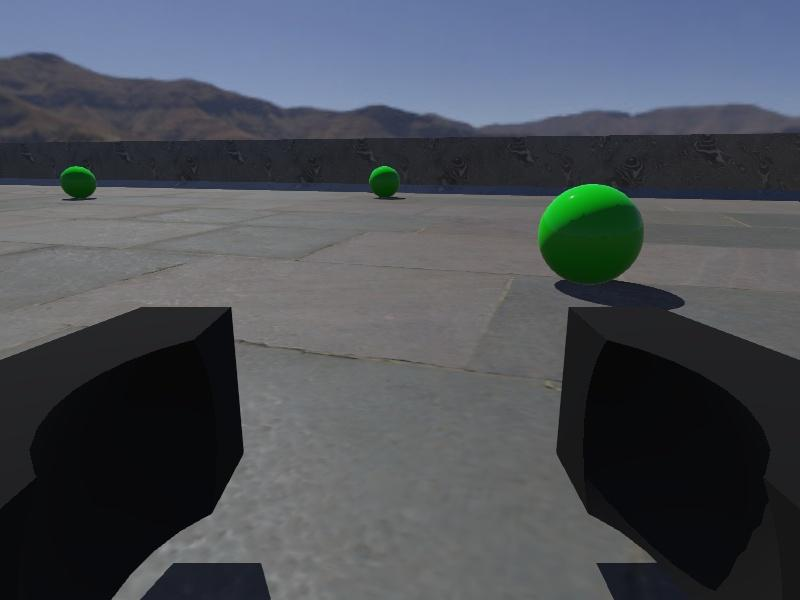green ball: (537, 182, 645, 287), (59, 165, 98, 200), (368, 165, 401, 198)
